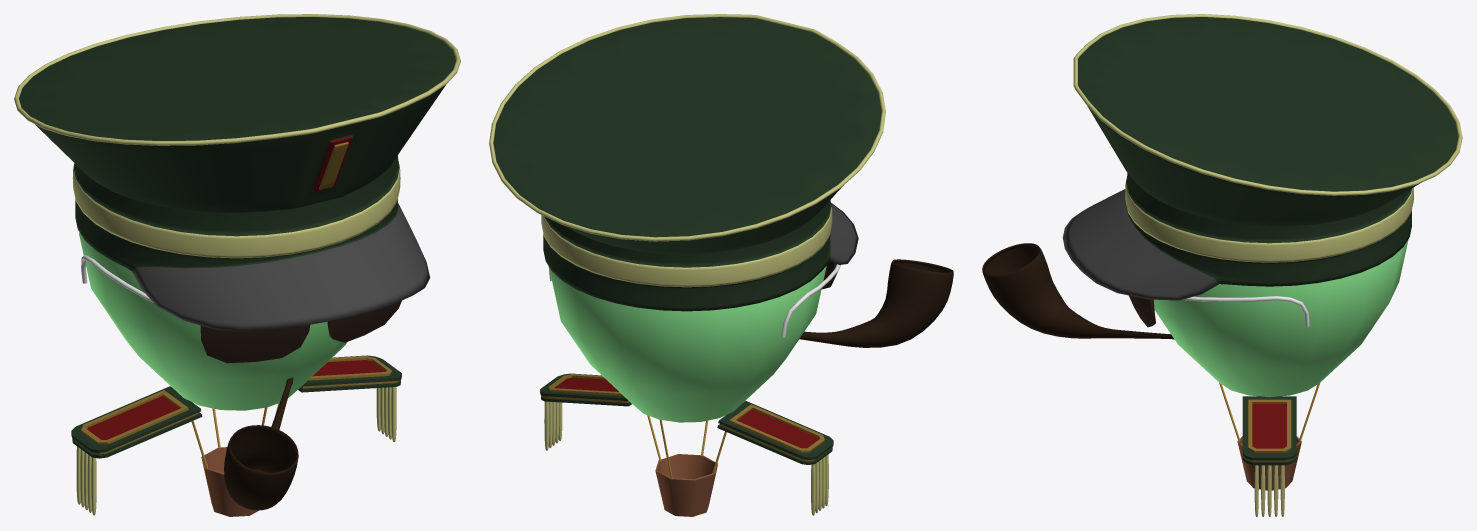
File: Lv5_FB_General.FBX
3 renders of one model, left to right at view 1: azimuth 30°, elevation 25°; view 2: azimuth 150°, elevation 25°; view 3: azimuth 270°, elevation 25°, orthographic. The views are drawn at different scales.
Parts seen in each view (by area): view 1: Cylinder003, Cylinder002, Sphere001, Box002, Cylinder004, Shape001, Box001, Plane001, Cylinder001, Plane002; view 2: Cylinder003, Sphere001, Cylinder002, Cylinder004, Box002, Shape001, Cylinder001, Box001, Plane001, Line003; view 3: Cylinder003, Cylinder002, Sphere001, Cylinder004, Box001, Shape001, Plane002, Cylinder001.
Part boxes in pixels (x1,y1,x2,y2): Cylinder003: [19, 17, 455, 212]; Cylinder002: [72, 155, 430, 331]; Sphere001: [79, 232, 347, 410]; Box002: [71, 386, 202, 515]; Cylinder004: [224, 377, 298, 510]; Shape001: [14, 14, 460, 145]; Box001: [298, 355, 401, 442]; Plane001: [81, 255, 310, 363]; Cylinder001: [201, 447, 258, 516]; Plane002: [327, 300, 401, 342]; Cylinder003: [493, 17, 881, 254]; Sphere001: [549, 266, 826, 422]; Cylinder002: [541, 200, 858, 311]; Cylinder004: [799, 259, 953, 347]; Box002: [717, 401, 833, 515]; Shape001: [489, 14, 885, 241]; Cylinder001: [655, 454, 717, 516]; Box001: [540, 373, 631, 450]; Plane001: [781, 261, 840, 337]; Line003: [647, 415, 726, 478]; Cylinder003: [1078, 17, 1458, 226]; Cylinder002: [1062, 173, 1413, 300]; Sphere001: [1154, 239, 1408, 397]; Cylinder004: [982, 243, 1174, 339]; Box001: [1242, 396, 1296, 516]; Shape001: [1073, 14, 1462, 195]; Plane002: [1128, 295, 1309, 327]; Cylinder001: [1237, 436, 1301, 490].
Bounding box in the file's own units: 183 × 210 × 223.
